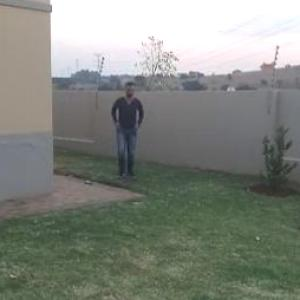follow: (108, 78, 144, 187)
